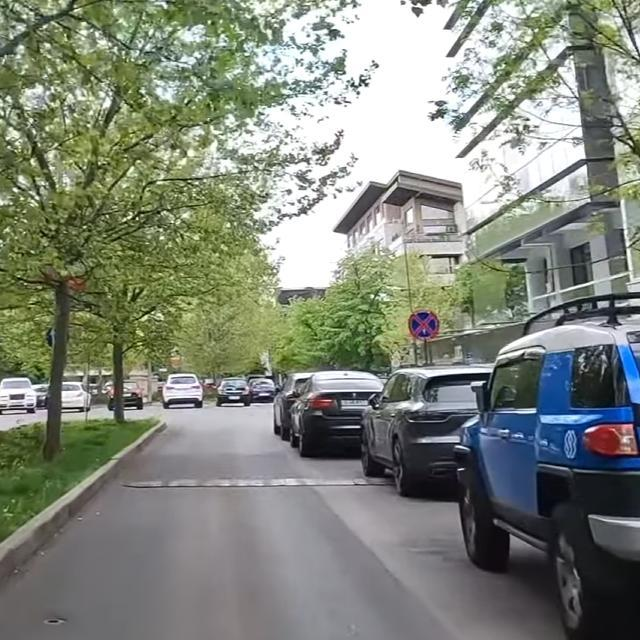forb_waiting: (408, 310, 440, 339)
